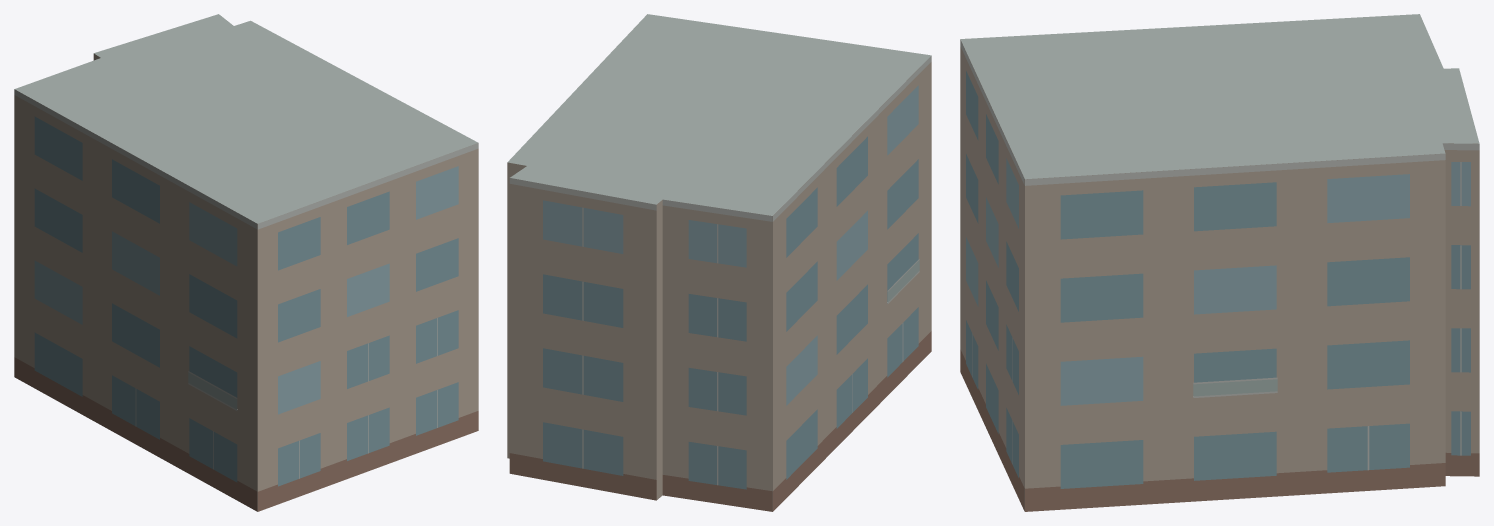
The model's file is survey-upis-32496374.glb.
3 renders of one model, left to right at view 1: azimuth 30°, elevation 25°; view 2: azimuth 150°, elevation 25°; view 3: azimuth 270°, elevation 25°, orthographic. The views are drawn at different scales.
Visible parts, largest first — view 1: survey-upis-32496374.tmp; view 2: survey-upis-32496374.tmp; view 3: survey-upis-32496374.tmp.
Boxes of the visible parts, bbox=[...] form: survey-upis-32496374.tmp: bbox=[14, 14, 478, 511]; survey-upis-32496374.tmp: bbox=[507, 14, 931, 511]; survey-upis-32496374.tmp: bbox=[960, 14, 1479, 511].
Size of the model in its own units: 13.01 by 12.2 by 17.27.
